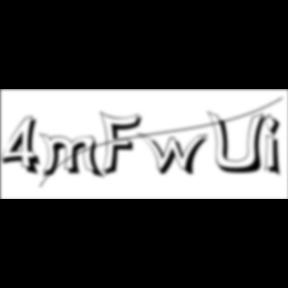4: (0, 115, 48, 179)
F: (100, 110, 148, 178)
U: (208, 110, 272, 176)
i: (264, 112, 288, 180)
m: (39, 132, 107, 181)
w: (137, 132, 215, 178)
